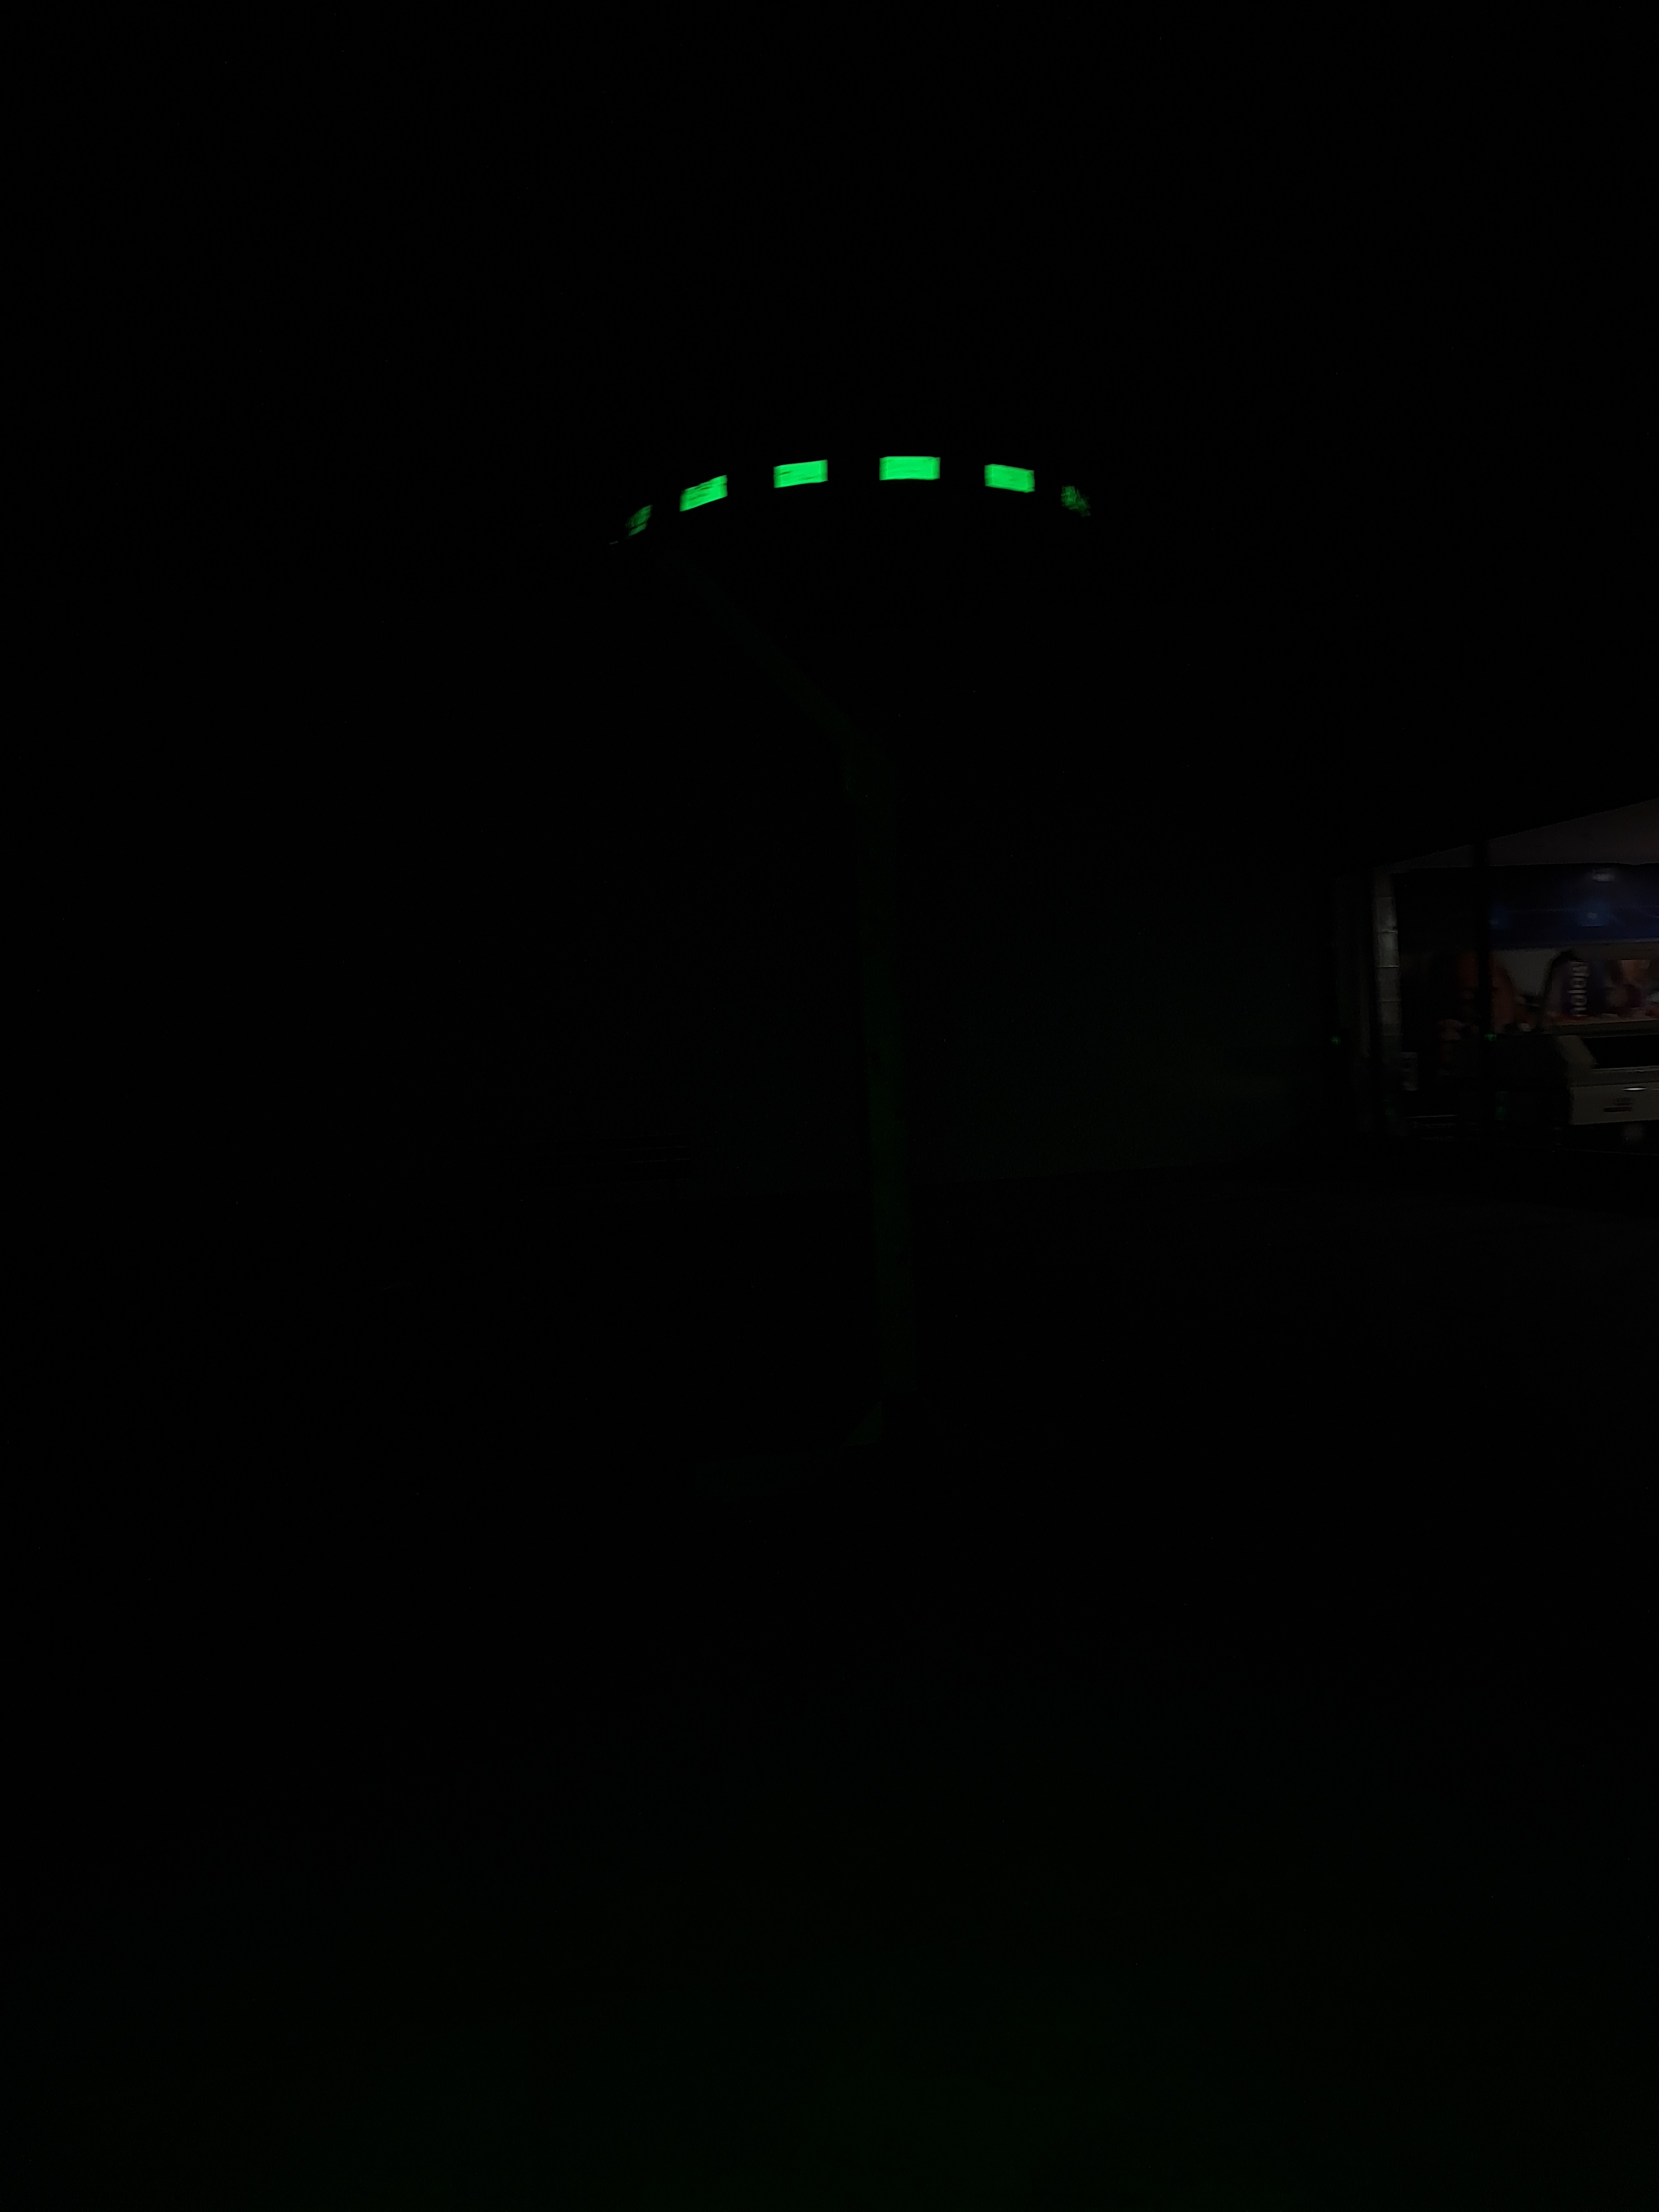hoop: (592, 425, 1108, 542)
